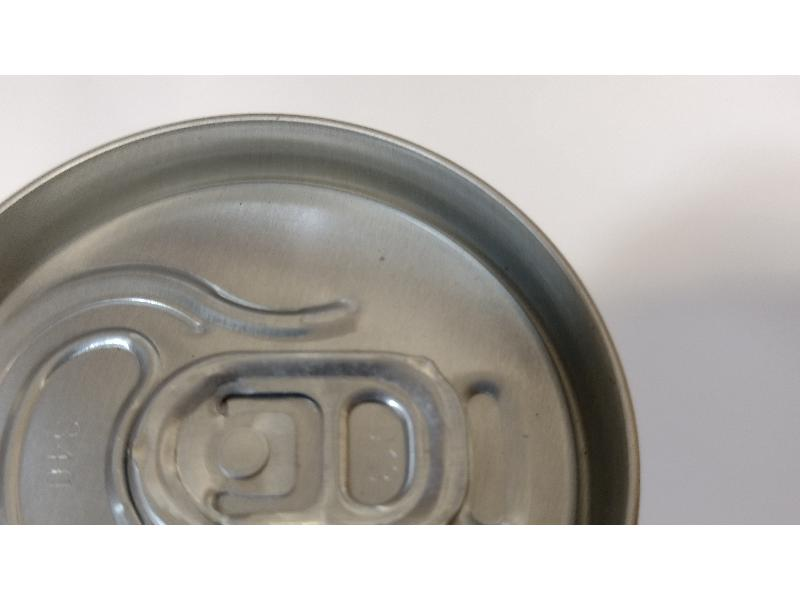can: (1, 110, 646, 527)
